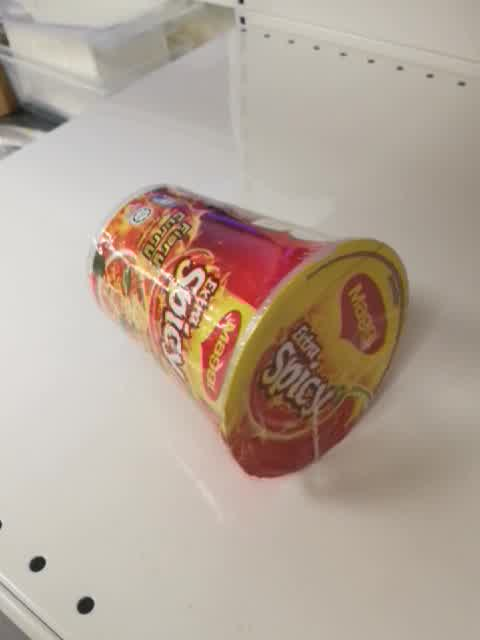maggi: (85, 181, 411, 479)
